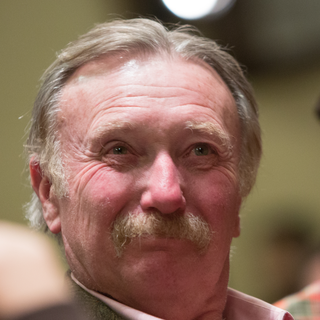eye: (94, 141, 142, 165), (178, 140, 224, 163)
